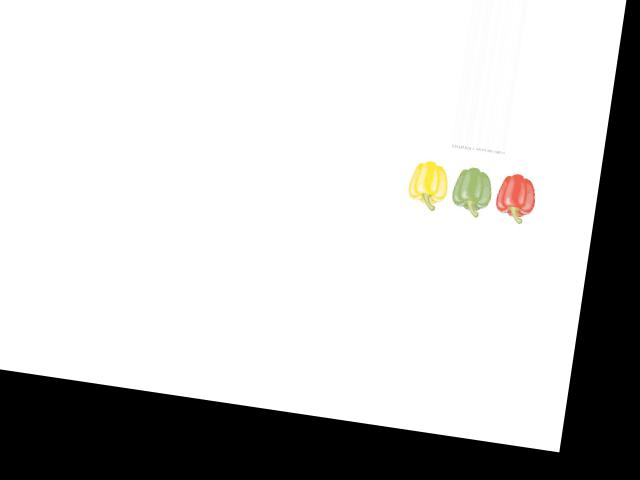bell_pepper: (403, 154, 454, 212)
